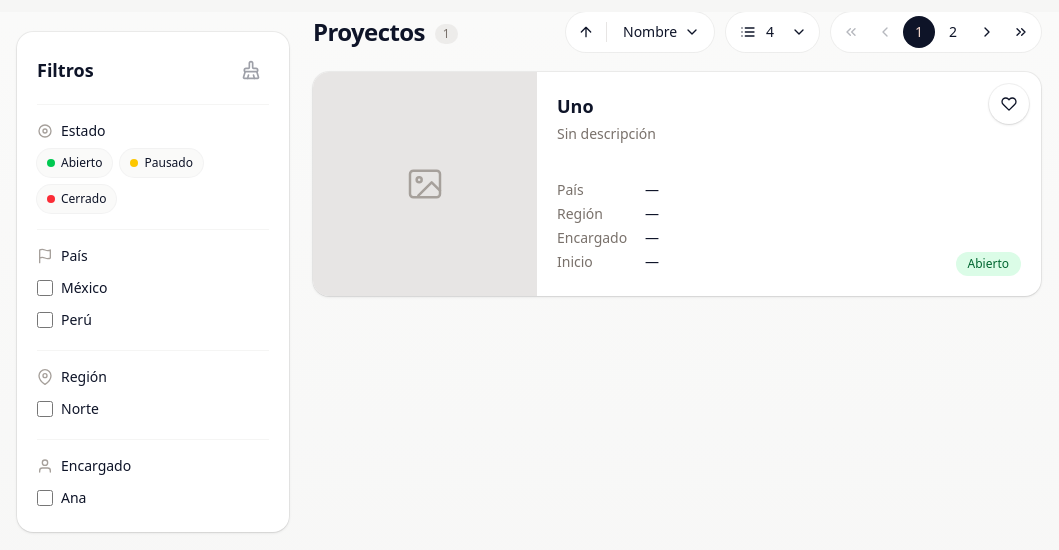
ProjectsPage › loads the selected page from the pagination
Expected: the heading "Uno" is shown, x1=557 y1=94 x2=594 y2=118
Step 1. Click the button named "Página 2" → coordinates (953, 32), box x1=937 y1=16 x2=969 y2=48
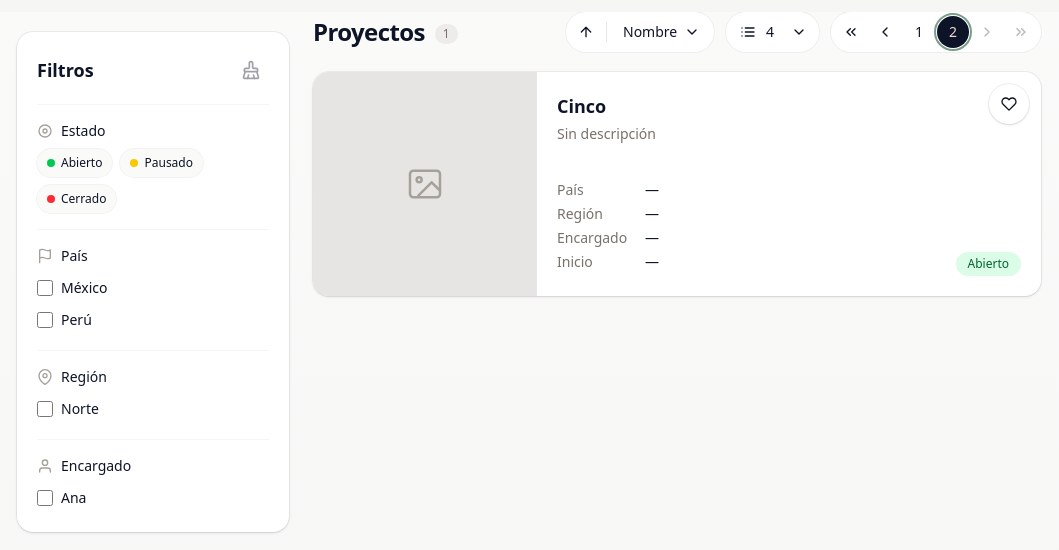
Expected: the heading "Cinco" is shown, x1=557 y1=94 x2=606 y2=118
Expected: the link "Uno" is gone
